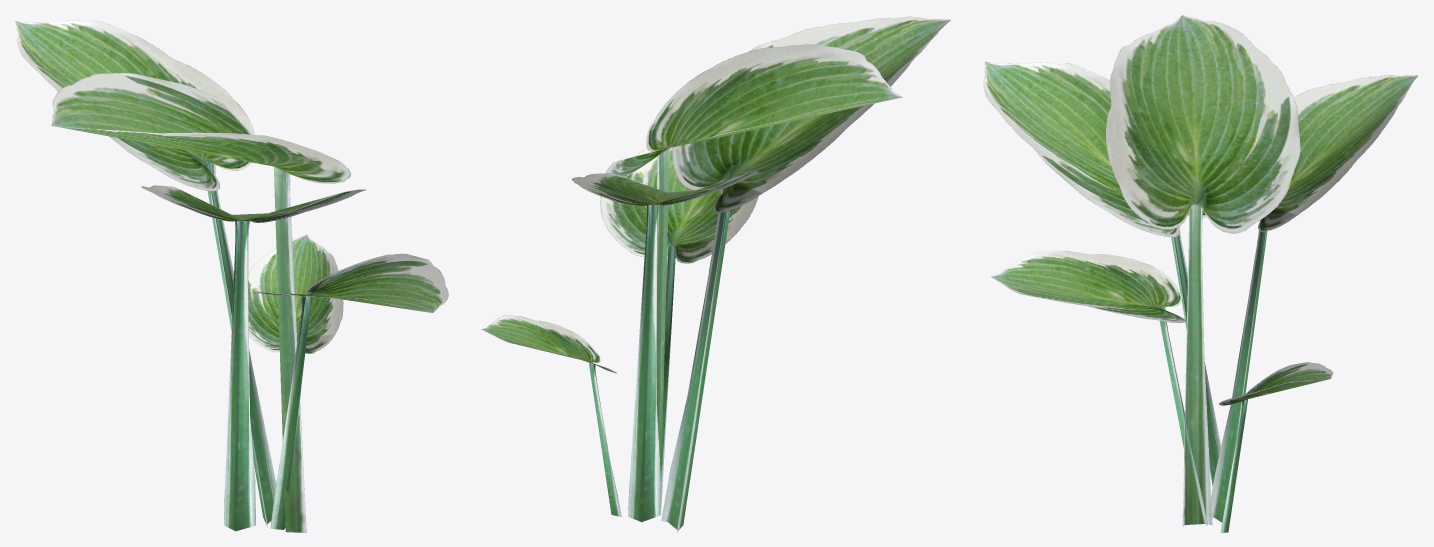
Rendered from plant_small_wg_05T.fbx.
The picture shows the model from 3 angles, left to right: view 1: azimuth 30°, elevation 25°; view 2: azimuth 150°, elevation 25°; view 3: azimuth 270°, elevation 25°; orthographic projection. The views are drawn at different scales.
Visible parts, largest first — view 1: plant_small_wg_05T; view 2: plant_small_wg_05T; view 3: plant_small_wg_05T.
Boxes of the visible parts, <box> form: plant_small_wg_05T: <box>15,20,448,532</box>; plant_small_wg_05T: <box>481,16,950,531</box>; plant_small_wg_05T: <box>983,15,1418,532</box>.
Bounding box in the file's own units: 31.62 × 41.24 × 40.16.
